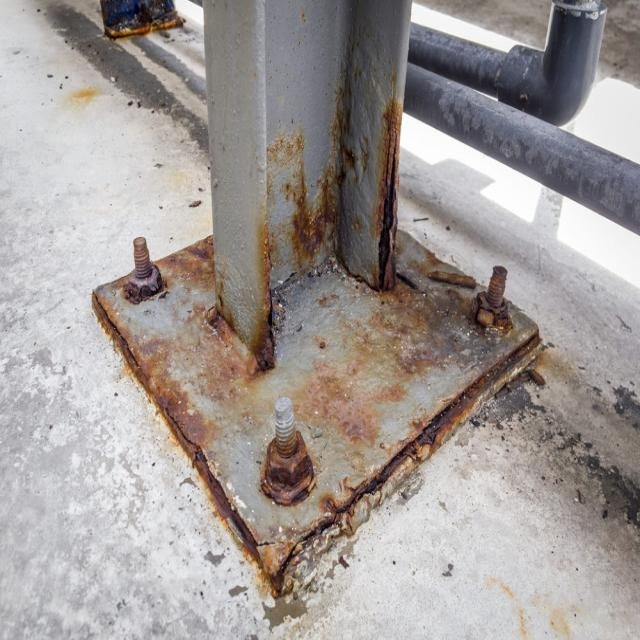Crevice Corrosion: (280, 326, 543, 589), (89, 288, 280, 595), (374, 107, 403, 293), (254, 212, 276, 373)
Uniform Corrosion: (291, 178, 337, 269)
